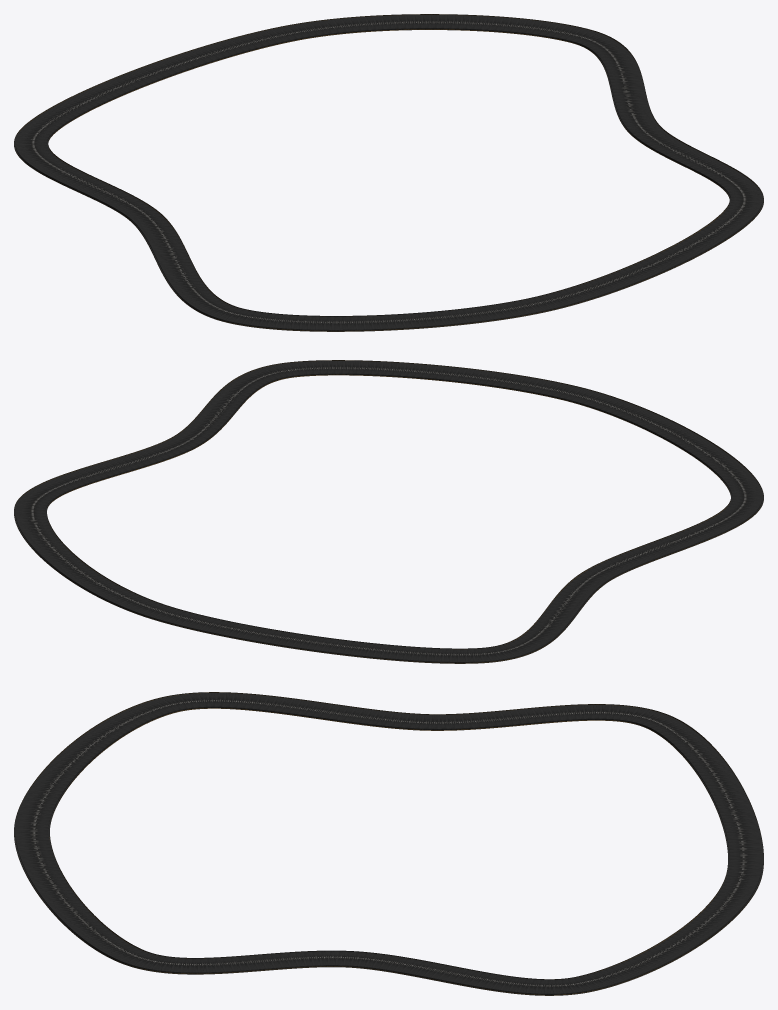
File: track4.obj
3 views of the same model, one above another, from view 1: azimuth 30°, elevation 25°; view 2: azimuth 150°, elevation 25°; view 3: azimuth 270°, elevation 25° (orthographic). The views are drawn at different scales.
Visible parts, largest first — view 1: track01_; view 2: track01_; view 3: track01_.
Part boxes in pixels (bbox=[...]): track01_: bbox=[14, 14, 763, 331]; track01_: bbox=[14, 360, 763, 663]; track01_: bbox=[14, 692, 763, 995].
Size of the model in its own units: 9.79 by 0.0235 by 10.26.
